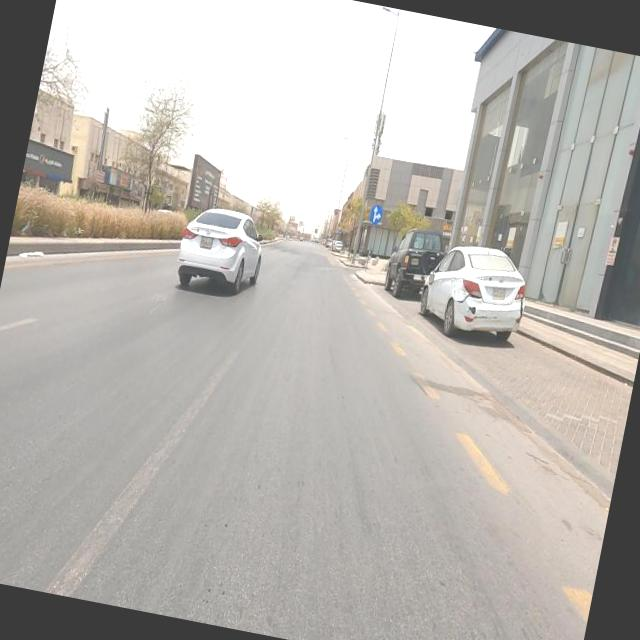debris: (2, 209, 64, 288)
